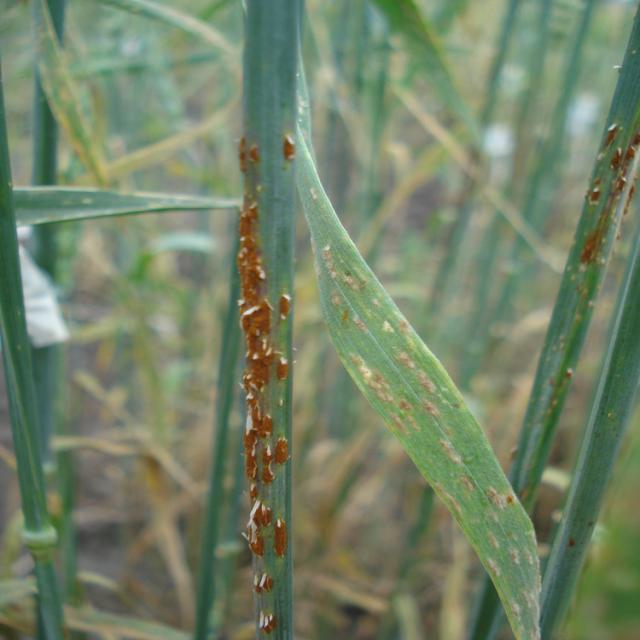wheat-powdery-mildew: (282, 0, 543, 640)
wheat-stemrust: (241, 118, 296, 640), (572, 119, 640, 282)
